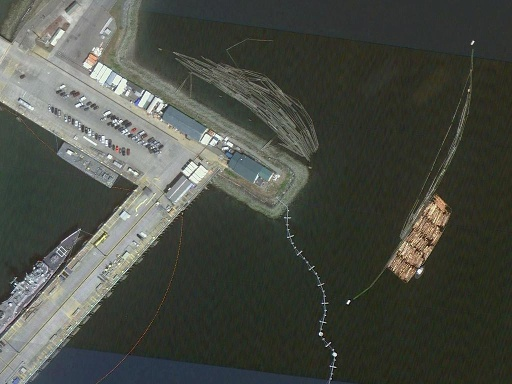ship: (1, 223, 90, 337)
